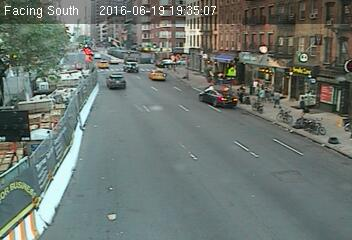neg: (139, 40, 153, 58), (166, 53, 179, 70), (203, 57, 214, 72), (236, 85, 247, 100)
pos: (271, 87, 286, 107), (257, 85, 269, 101), (298, 95, 310, 110)
